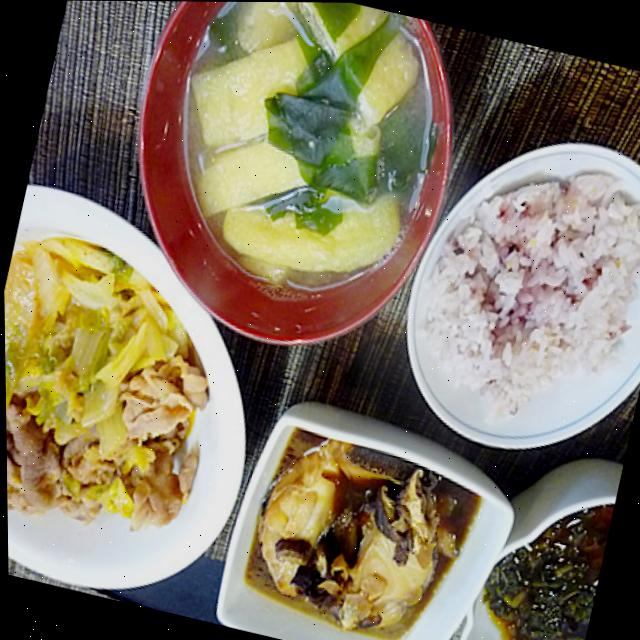蔬菜料理: (3, 222, 249, 595)
